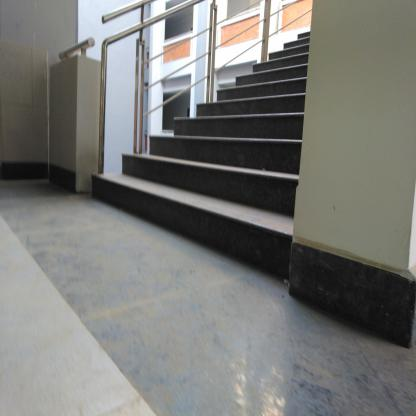stairs: (238, 77, 291, 295)
